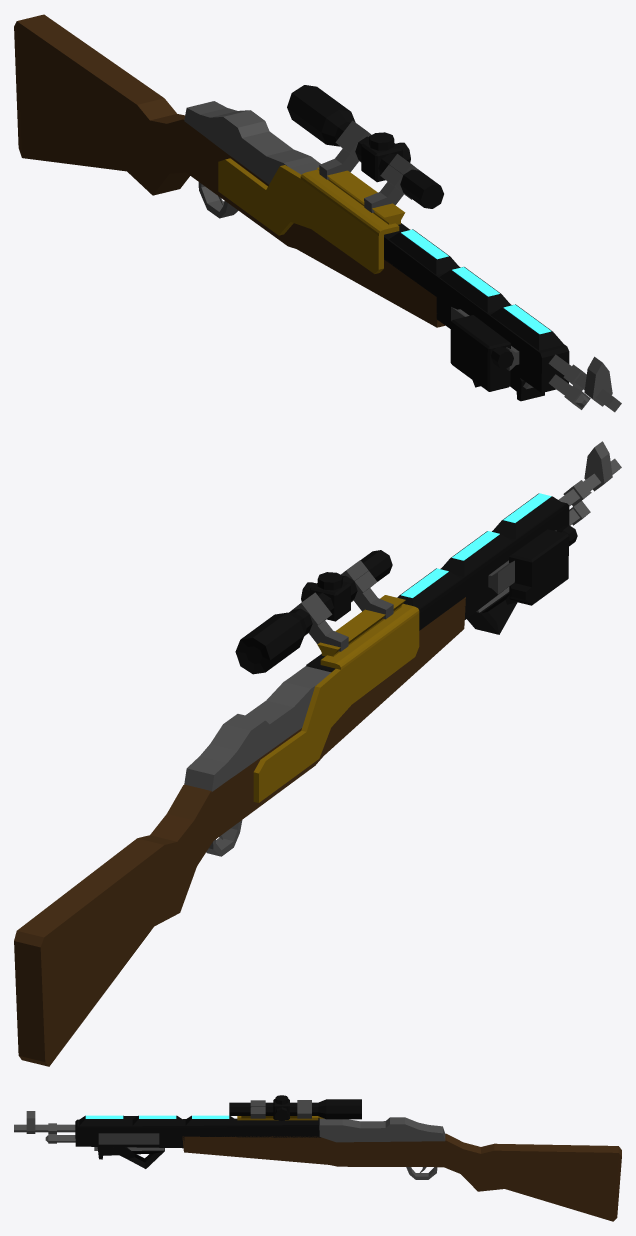
Rendered from OlReliable.glb.
The picture shows the model from 3 angles, top to bottom: view 1: azimuth 30°, elevation 25°; view 2: azimuth 150°, elevation 25°; view 3: azimuth 270°, elevation 25°; orthographic projection. The views are drawn at different scales.
Visible parts, largest first — view 1: RifleGrip, GoldRail, Receiver, RifleTopHalf, Sight, PEQ15, RailSystemTop, SightGripTwo, SightGripOne, WeaponLightThree, WeaponLightTwo, WeaponLightOne (+4 smaller); view 2: RifleGrip, GoldRail, Receiver, Sight, RifleTopHalf, PEQ15, SightGripOne, RailSystemTop, SightGripTwo, AFG, WeaponLightThree, WeaponLightTwo (+1 smaller); view 3: RifleGrip, RifleTopHalf, Receiver, Sight, AFG, RailSystemLeft, BarrelPrimary, WeaponLightTwo, WeaponLightThree, WeaponLightOne, SightGripTwo, SightGripOne (+2 smaller).
Boxes of the visible parts, box(x1,y1,x2,y2) form: RifleGrip: box(14, 14, 444, 327); GoldRail: box(218, 158, 399, 273); Receiver: box(184, 101, 320, 184); RifleTopHalf: box(384, 223, 569, 392); Sight: box(287, 85, 443, 208); PEQ15: box(450, 315, 510, 391); RailSystemTop: box(317, 167, 405, 224); SightGripTwo: box(364, 154, 419, 212); SightGripOne: box(319, 120, 371, 179); WeaponLightThree: box(491, 304, 563, 350); WeaponLightTwo: box(439, 267, 510, 312); WeaponLightOne: box(389, 229, 459, 274); RifleGrip: box(14, 597, 465, 1066); GoldRail: box(253, 603, 419, 802); Receiver: box(184, 666, 330, 791); Sight: box(235, 550, 392, 674); RifleTopHalf: box(306, 502, 569, 672); PEQ15: box(509, 529, 568, 605); SightGripOne: box(292, 592, 348, 651); RailSystemTop: box(317, 595, 405, 656); SightGripTwo: box(341, 560, 393, 619); AFG: box(467, 592, 517, 634); WeaponLightThree: box(492, 493, 563, 539); WeaponLightTwo: box(441, 531, 512, 576); RifleGrip: box(182, 1133, 621, 1221); RifleTopHalf: box(75, 1118, 320, 1148); Receiver: box(319, 1117, 445, 1142); Sight: box(229, 1099, 361, 1119); AFG: box(97, 1147, 164, 1168); RailSystemLeft: box(98, 1133, 159, 1144); BarrelPrimary: box(14, 1124, 75, 1132); WeaponLightTwo: box(132, 1115, 182, 1125); WeaponLightThree: box(79, 1115, 129, 1125); WeaponLightOne: box(185, 1115, 235, 1125); SightGripTwo: box(250, 1100, 265, 1118); SightGripOne: box(297, 1100, 311, 1118).
Size of the model in its own units: 0.4009 by 1.05 by 4.57.
